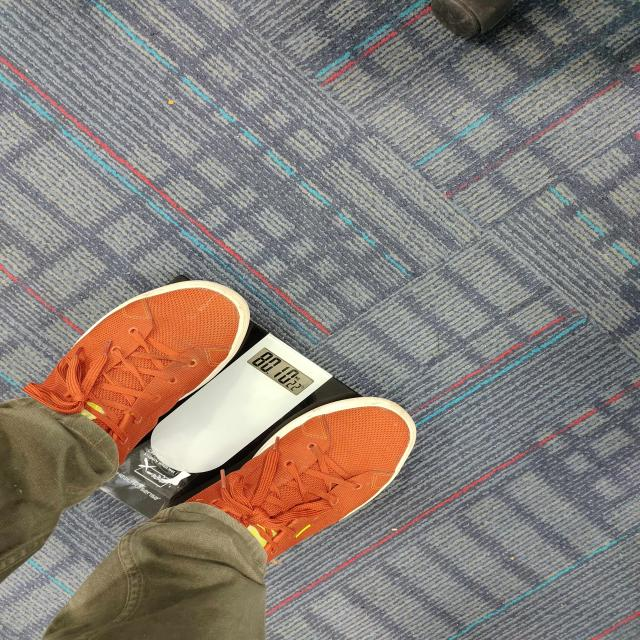ws: (153, 329, 306, 472)
